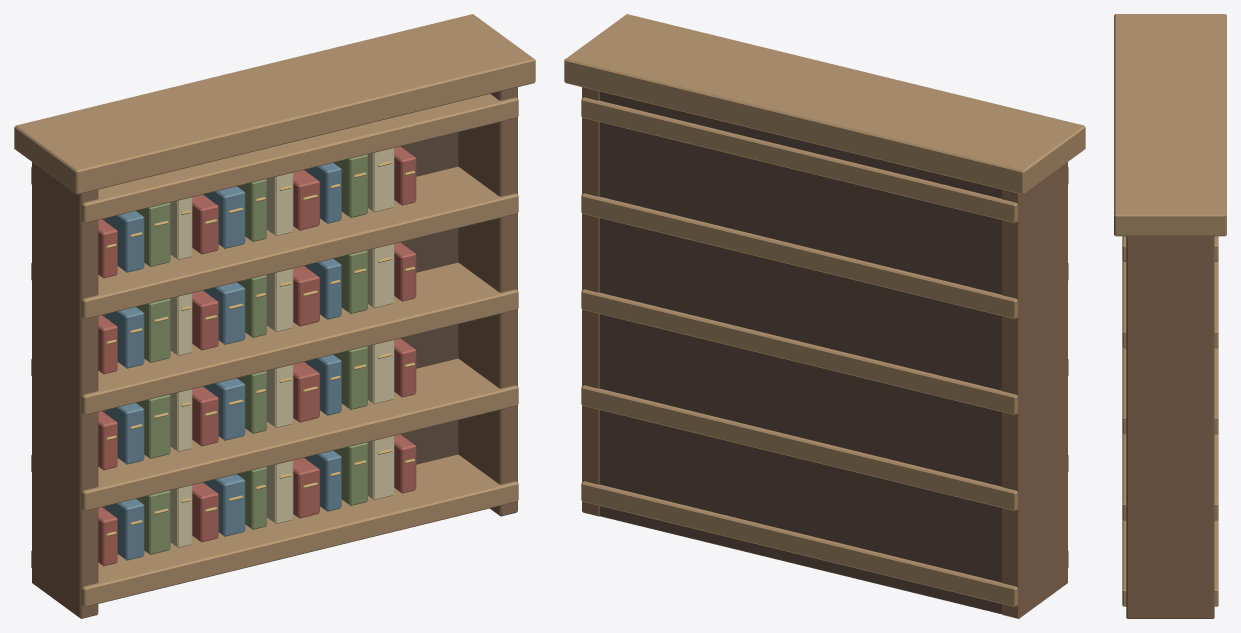
File: bookshelf.glb
3 views of the same model, side by side, from view 1: azimuth 30°, elevation 25°; view 2: azimuth 150°, elevation 25°; view 3: azimuth 270°, elevation 25° (orthographic). The views are drawn at different scales.
Visible parts, largest first — view 1: TV_bookshelf; view 2: TV_bookshelf; view 3: TV_bookshelf.
Part boxes in pixels (x1,y1,x2,y2): TV_bookshelf: (14, 14, 535, 618); TV_bookshelf: (564, 14, 1085, 618); TV_bookshelf: (1114, 14, 1226, 618).
Size of the model in its own units: 2.96 by 2.81 by 0.7.
